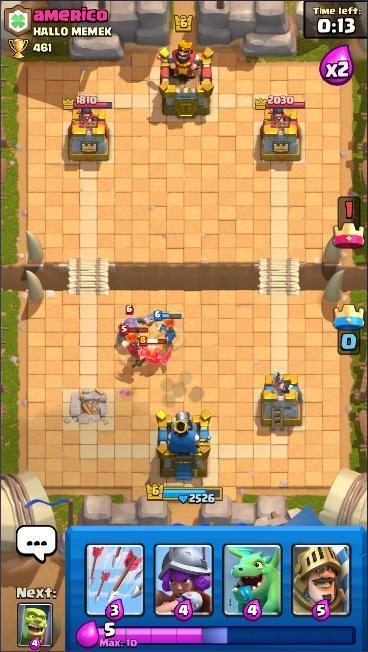ally_valkyrie: (153, 309, 184, 346)
enemy_knight: (115, 303, 157, 351)
enemy_mini_pekka: (136, 335, 174, 368)
enemy_valkyrie: (120, 324, 149, 359)
